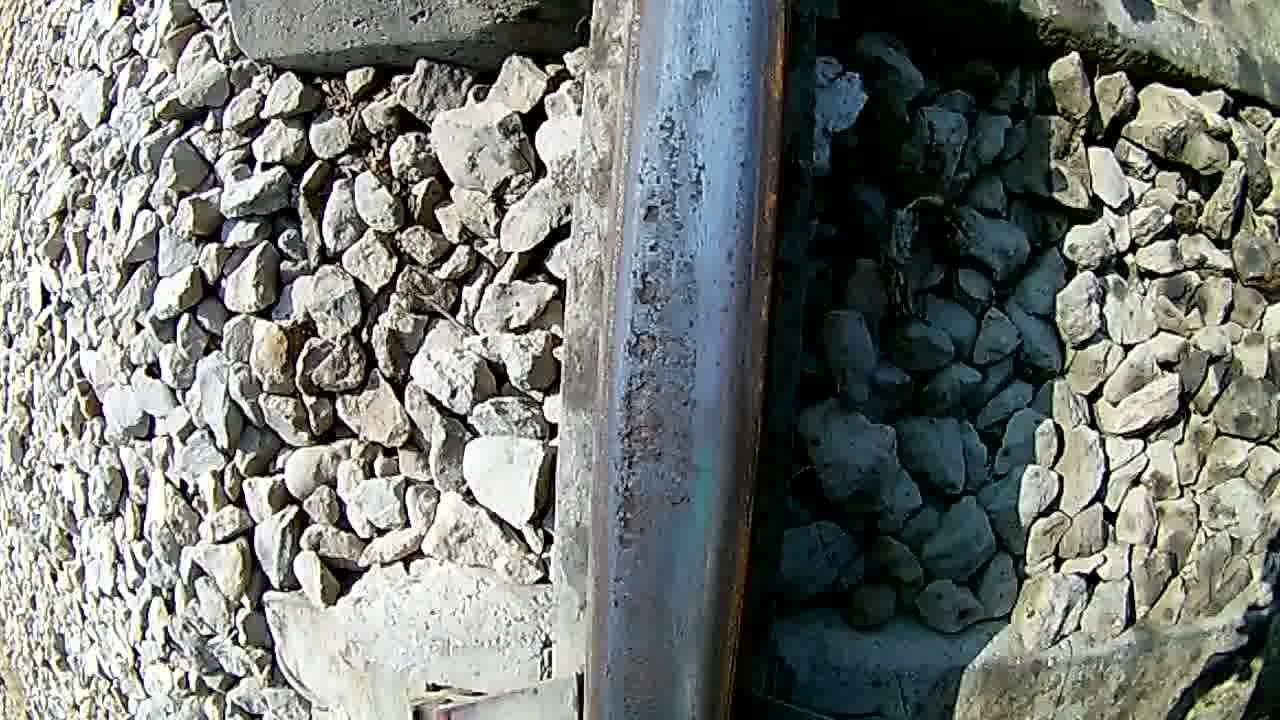crack: (604, 0, 769, 720)
